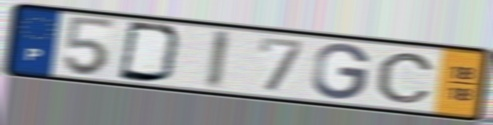5: (61, 14, 118, 79)
7: (255, 35, 305, 95)
C: (374, 51, 438, 105)
D: (115, 19, 186, 86)
G: (310, 42, 374, 101)
I: (203, 28, 234, 91)
